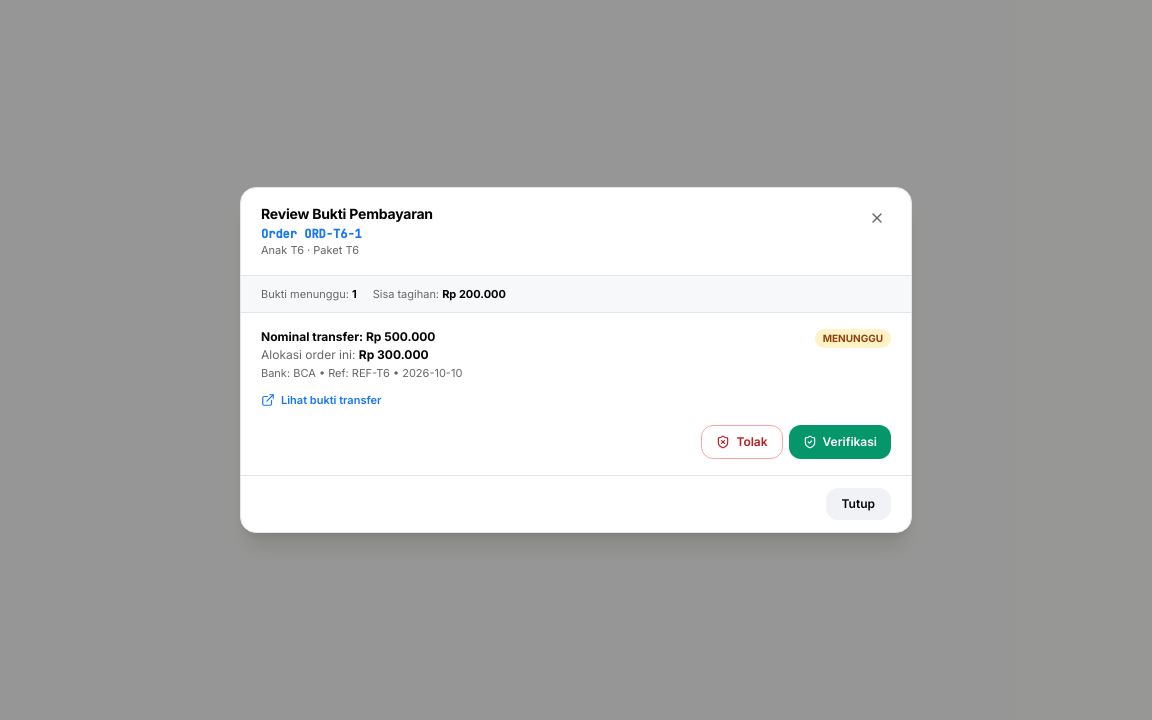
Scenario: PaymentReviewModal (T6: review bukti pembayaran ortu) › menampilkan toast eksplisit dari data.notification saat verifikasi berhasil
The width and height of the screenshot is (1152, 720).
Click the button "Verifikasi" at (840, 442), box x1=788 y1=425 x2=891 y2=459
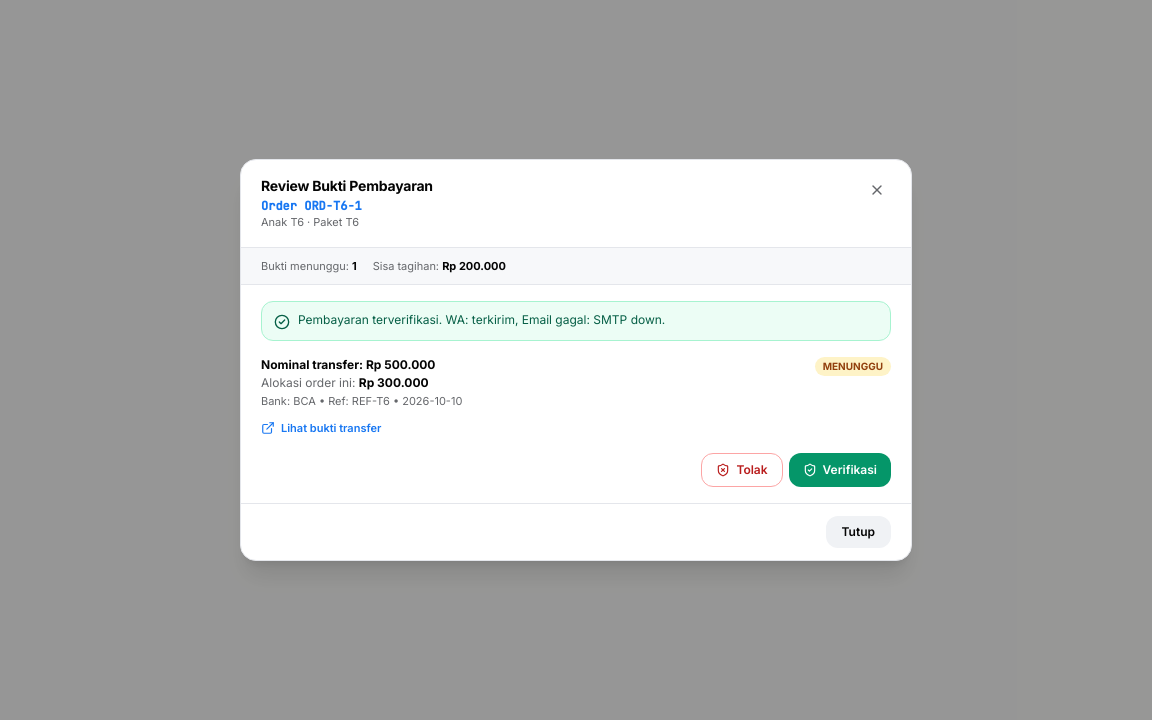
Check: the message shows "Pembayaran terverifikasi.", box x1=298 y1=312 x2=665 y2=327
Check: the message shows "WA: terkirim", box x1=298 y1=312 x2=665 y2=327
Check: the message shows "Email gagal: SMTP down", box x1=298 y1=312 x2=665 y2=327
